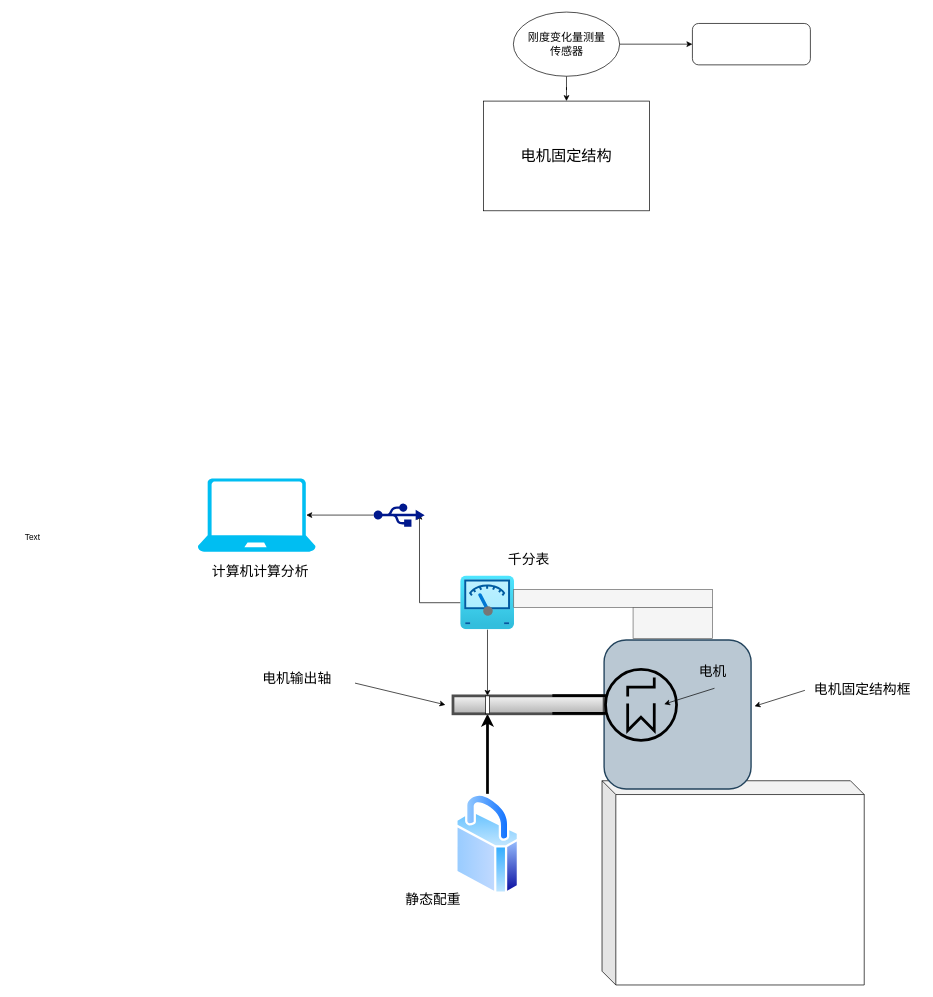
Image size: 933x997. Some labels were removed from this diagram. Here are the shapes that lost their labels. From the top down, the centre of each, then its label:
the point at 751,44: 数据分析计算机
the point at 732,882: 固定水平桌面
